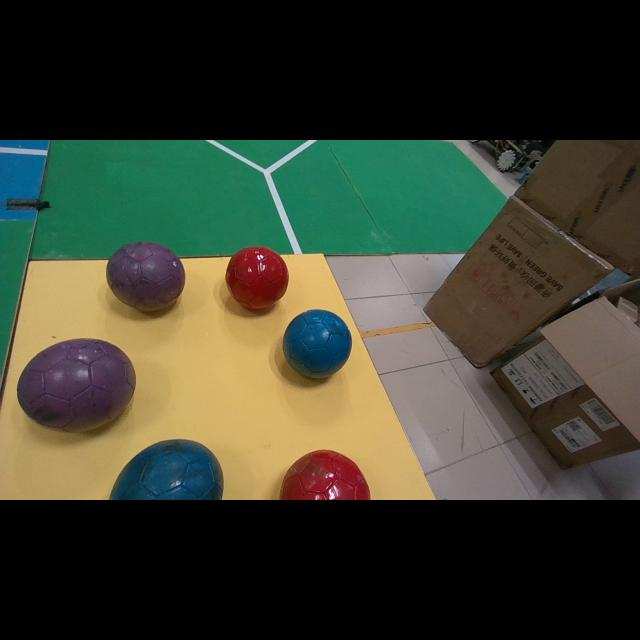B: (110, 439, 224, 500), (282, 310, 352, 378)
P: (18, 339, 135, 432), (108, 241, 185, 311)
R: (280, 450, 370, 500), (225, 246, 289, 309)
